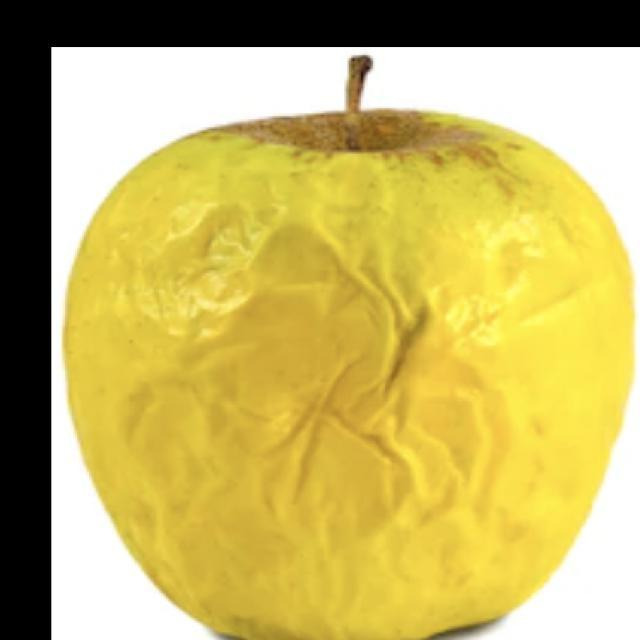Rotten: (85, 112, 628, 610)
